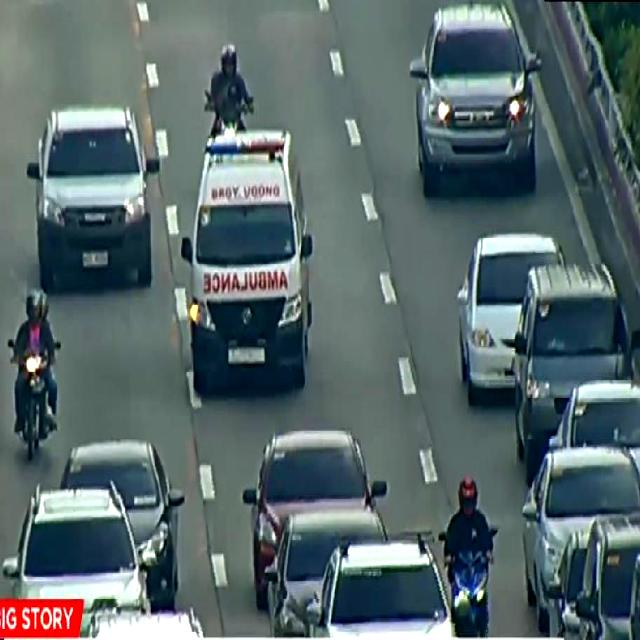emergency: (180, 124, 317, 394)
